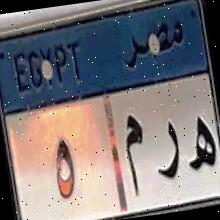5: (46, 134, 84, 201)
haa: (181, 107, 220, 179)
meem: (118, 107, 152, 199)
raa: (148, 112, 186, 184)
